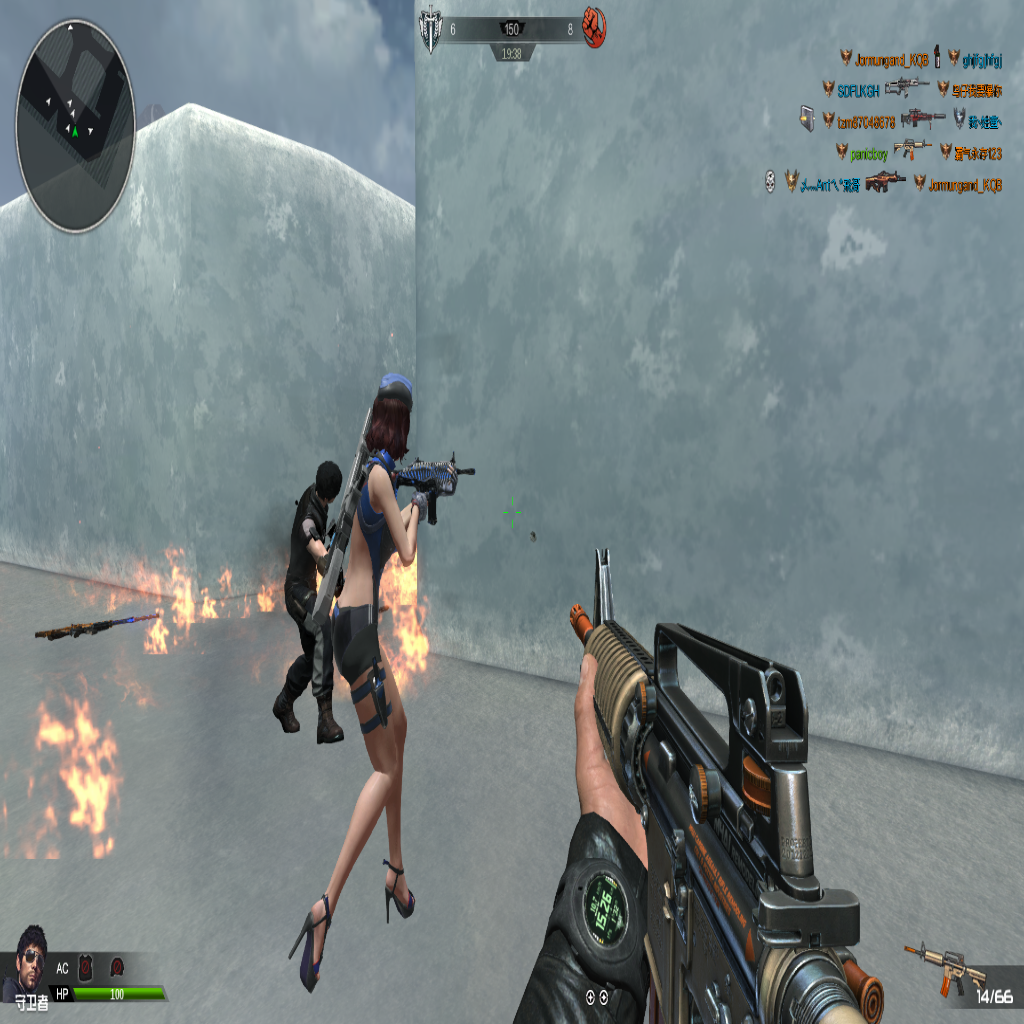ct: (277, 463, 345, 744)
